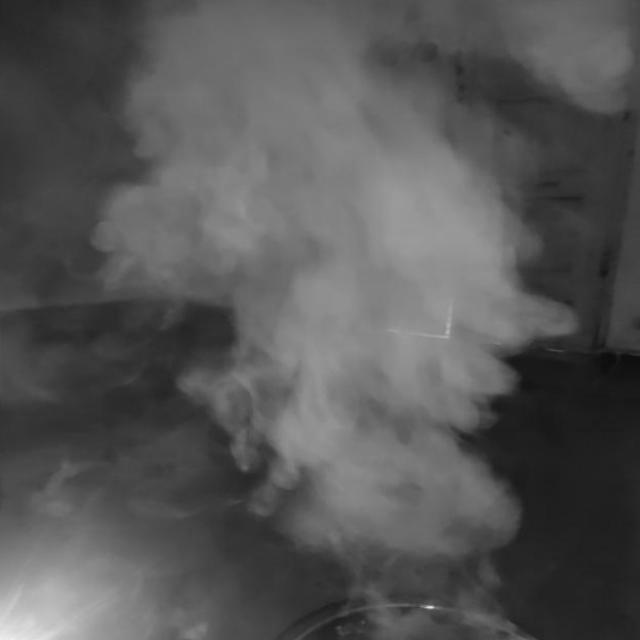fire: (88, 0, 582, 564)
